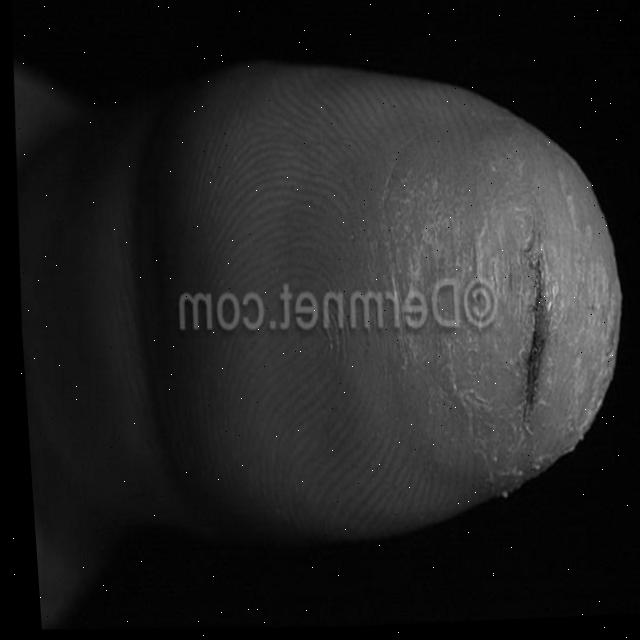Eczema: (453, 203, 616, 433)
